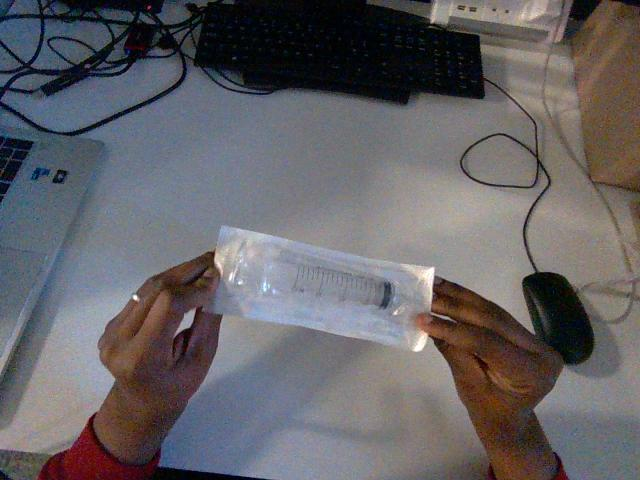syringe: (206, 226, 433, 350)
